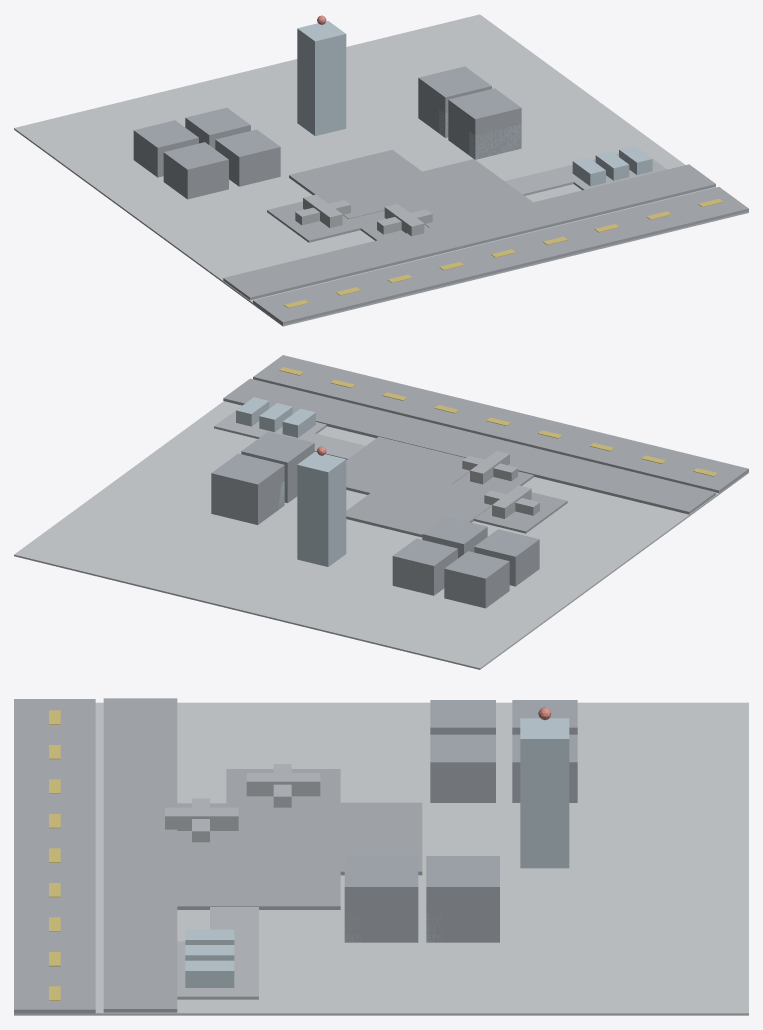
The model's file is stage_14.glb.
3 views of the same model, one above another, from view 1: azimuth 30°, elevation 25°; view 2: azimuth 150°, elevation 25°; view 3: azimuth 270°, elevation 25° (orthographic). The views are drawn at different scales.
Parts seen in each view (by area): view 1: geometry_0; view 2: geometry_0; view 3: geometry_0.
Part boxes in pixels (x1,y1,x2,y2): geometry_0: (14, 14, 748, 326); geometry_0: (14, 355, 748, 669); geometry_0: (14, 698, 748, 1015).
Bounding box in the file's own units: 9 × 2.06 × 9.
